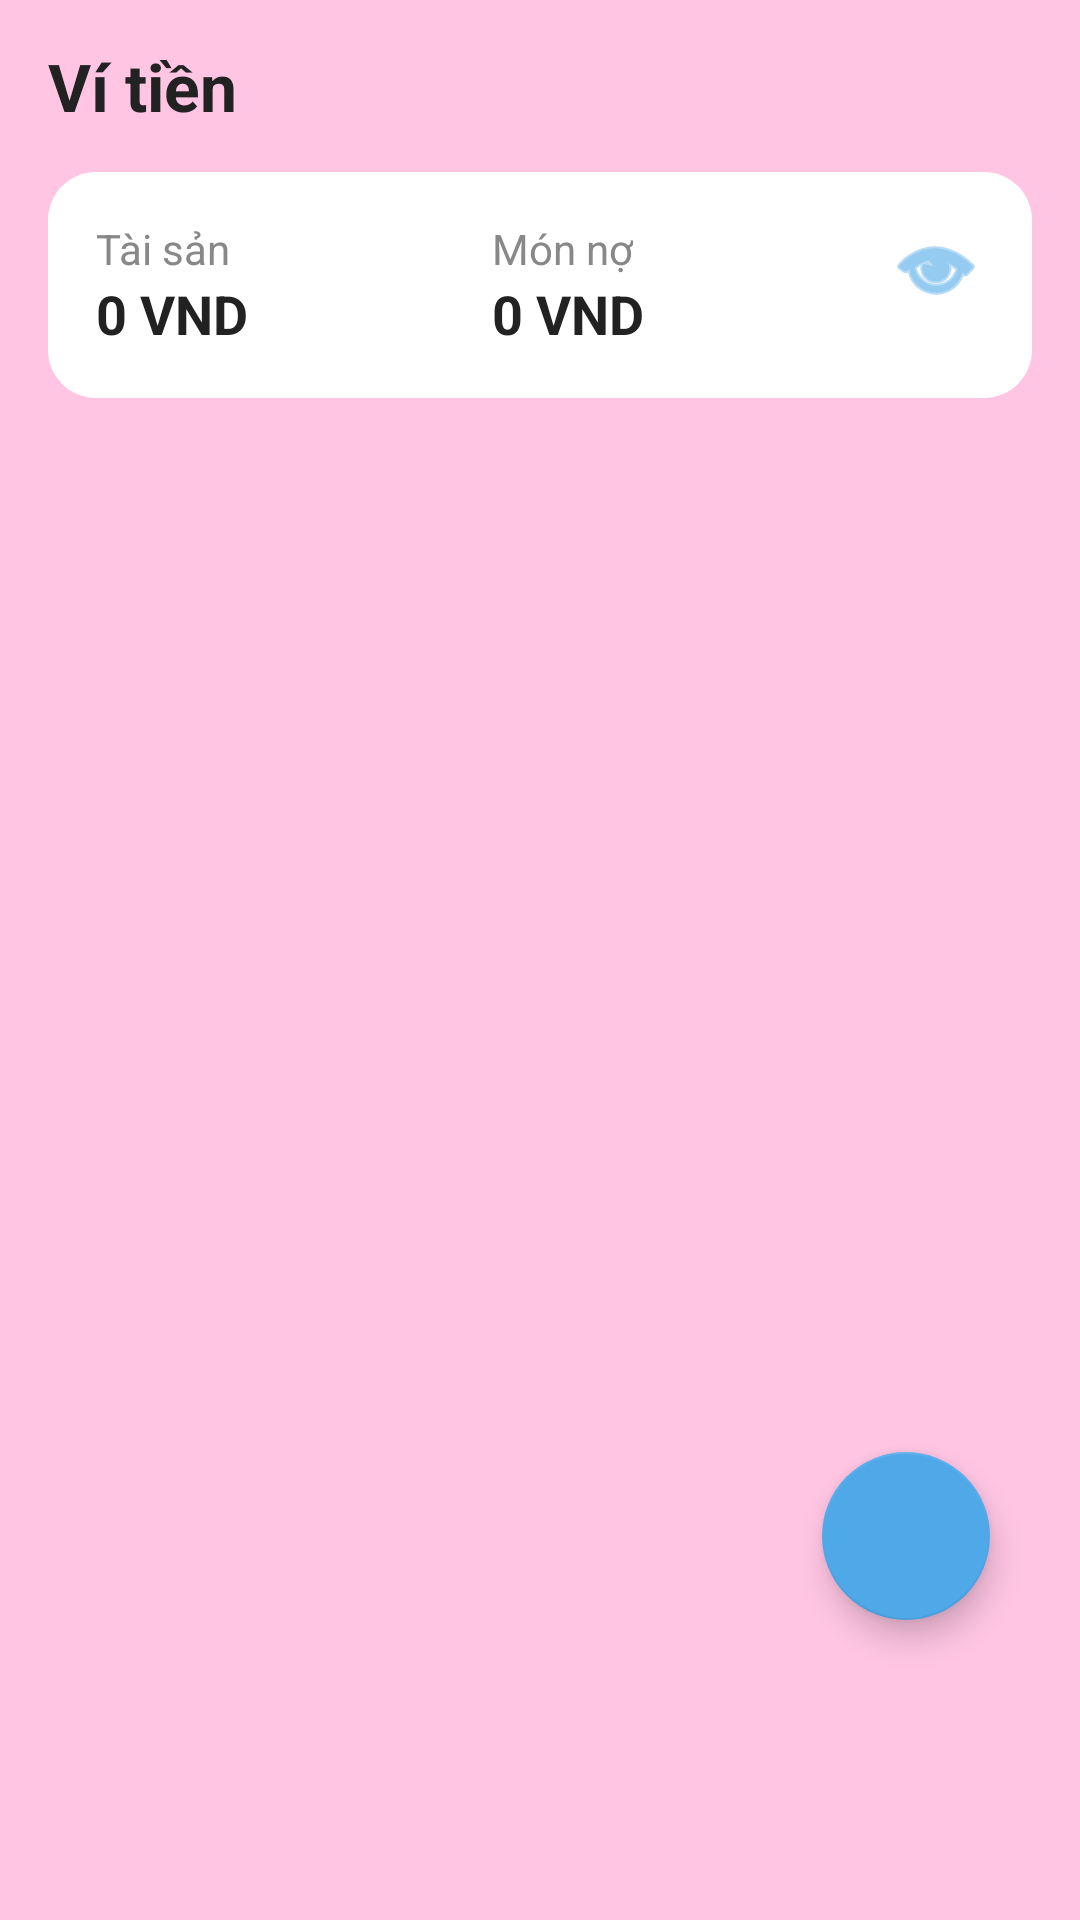

Icon bounding boxes for this 1080px×1920px phone screenshot, format (x1, y1, x2, y2):
view: (897, 246, 975, 295)
